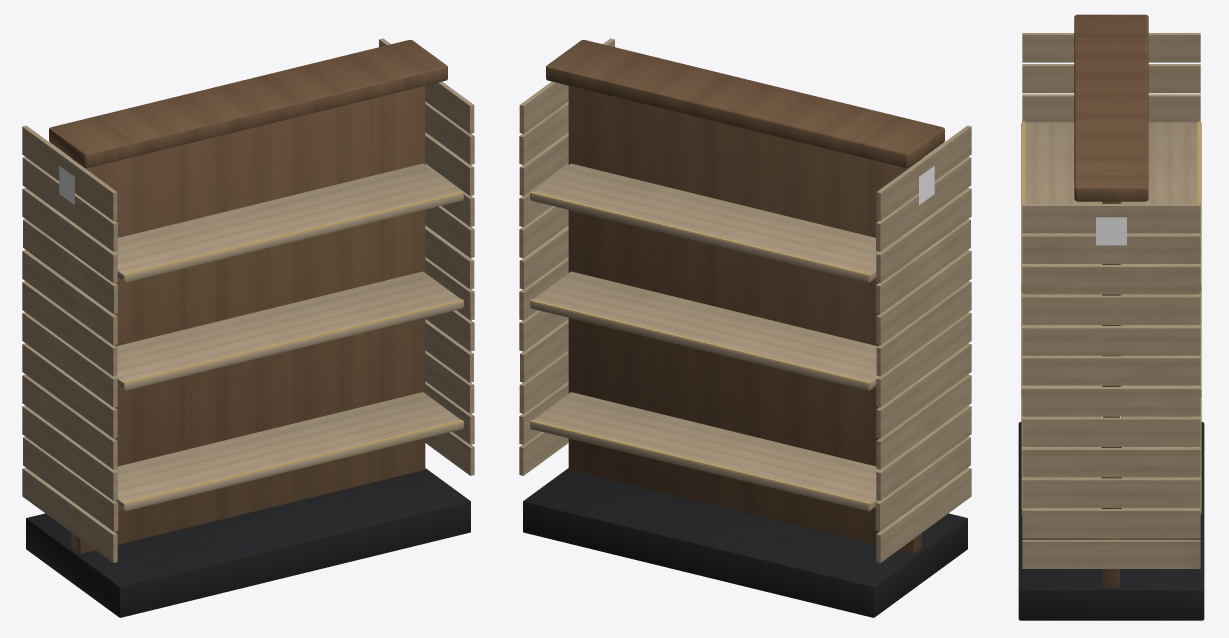
Rendered from retail_gondola.glb.
3 views of the same model, side by side, from view 1: azimuth 30°, elevation 25°; view 2: azimuth 150°, elevation 25°; view 3: azimuth 270°, elevation 25° (orthographic).
Visible parts, largest first — view 1: Spine, End_Slat_L, Plinth, Top_Cap, End_Slat_R, Shelf_F01, Shelf_F02, Shelf_F03, Shelf_Lip_F01, Shelf_Lip_F03, Shelf_Lip_F02; view 2: Spine, End_Slat_L, Plinth, Top_Cap, End_Slat_R, Shelf_B02, Shelf_B01, Shelf_B03, Shelf_Lip_B01, Shelf_Lip_B03, Shelf_Lip_B02; view 3: End_Slat_R, Top_Cap, Plinth, End_Slat_L, Shelf_B03, Shelf_F03, Crest_Badge_R, Shelf_B02, Shelf_F02, Spine, Shelf_B01, Shelf_F01 (+2 smaller).
Part boxes in pixels (x1=…): Spine: x1=71, y1=86, x2=425, y2=553; End_Slat_L: x1=22, y1=125, x2=118, y2=562; Plinth: x1=26, y1=468, x2=470, y2=617; Top_Cap: x1=49, y1=40, x2=447, y2=167; End_Slat_R: x1=379, y1=38, x2=474, y2=475; Shelf_F01: x1=115, y1=392, x2=463, y2=511; Shelf_F02: x1=115, y1=271, x2=463, y2=390; Shelf_F03: x1=115, y1=163, x2=463, y2=282; Shelf_Lip_F01: x1=122, y1=420, x2=463, y2=509; Shelf_Lip_F03: x1=122, y1=191, x2=463, y2=280; Shelf_Lip_F02: x1=122, y1=299, x2=463, y2=388; Spine: x1=568, y1=86, x2=922, y2=553; End_Slat_L: x1=875, y1=125, x2=971, y2=562; Plinth: x1=523, y1=468, x2=967, y2=617; Top_Cap: x1=546, y1=40, x2=944, y2=167; End_Slat_R: x1=519, y1=38, x2=614, y2=475; Shelf_B02: x1=530, y1=271, x2=878, y2=390; Shelf_B01: x1=530, y1=392, x2=878, y2=511; Shelf_B03: x1=530, y1=163, x2=878, y2=282; Shelf_Lip_B01: x1=530, y1=420, x2=871, y2=509; Shelf_Lip_B03: x1=530, y1=191, x2=871, y2=280; Shelf_Lip_B02: x1=530, y1=299, x2=871, y2=388; End_Slat_R: x1=1022, y1=204, x2=1200, y2=568; Top_Cap: x1=1074, y1=14, x2=1148, y2=201; Plinth: x1=1018, y1=422, x2=1204, y2=620; End_Slat_L: x1=1022, y1=33, x2=1200, y2=386; Shelf_B03: x1=1121, y1=122, x2=1201, y2=290; Shelf_F03: x1=1021, y1=122, x2=1101, y2=290; Crest_Badge_R: x1=1096, y1=217, x2=1126, y2=245; Shelf_B02: x1=1121, y1=291, x2=1201, y2=396; Shelf_F02: x1=1021, y1=291, x2=1101, y2=396; Spine: x1=1103, y1=201, x2=1119, y2=587; Shelf_B01: x1=1121, y1=396, x2=1201, y2=515; Shelf_F01: x1=1021, y1=396, x2=1101, y2=515.
Bounding box in the file's own units: 1.2 × 1.4 × 0.6.
Materials: 7 (4 with a texture image).
